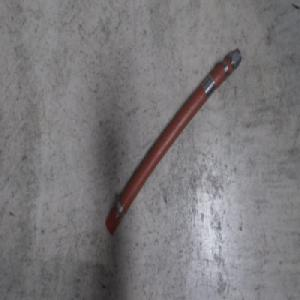Hose: (104, 46, 241, 238)
